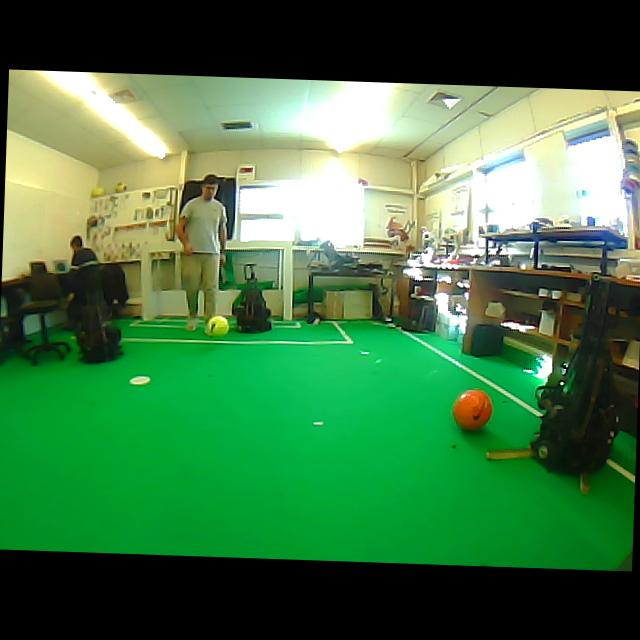ball: (452, 388, 491, 429), (206, 314, 228, 335), (91, 186, 104, 197), (114, 182, 126, 191)
goal: (281, 242, 292, 320), (141, 251, 152, 319)
robot: (531, 276, 618, 472), (76, 290, 123, 362), (234, 263, 271, 332)
